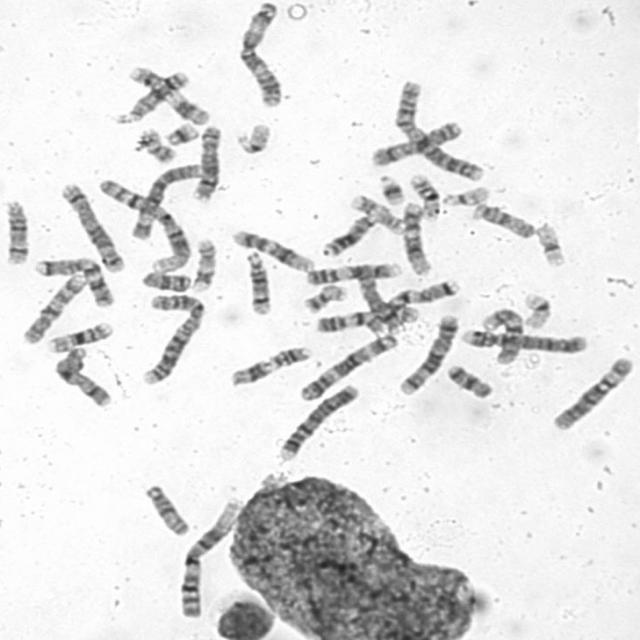A1: (95, 176, 191, 274), (175, 496, 242, 622)
A2: (392, 78, 487, 182), (137, 290, 208, 387)
A3: (295, 330, 400, 402), (234, 0, 284, 108)
B4: (275, 381, 360, 462), (457, 325, 589, 355)
B5: (58, 179, 126, 274), (394, 311, 460, 396)
C10: (19, 270, 88, 346), (478, 305, 525, 365)
C11: (124, 64, 210, 126), (226, 344, 312, 386)
C12: (227, 226, 316, 273), (399, 200, 433, 276)
C6: (547, 354, 636, 433), (126, 160, 204, 241)
C7: (362, 276, 461, 335), (30, 254, 116, 309)
C8: (353, 261, 419, 325), (189, 122, 224, 203)
C9: (311, 302, 422, 335), (302, 260, 404, 286)
D13: (114, 68, 192, 125), (318, 210, 379, 258)
D14: (241, 249, 273, 317), (2, 197, 30, 266)
D15: (142, 481, 192, 537), (469, 200, 535, 240)
E16: (44, 319, 115, 354), (408, 170, 442, 220)
E17: (346, 191, 405, 235), (188, 236, 218, 293)
E18: (444, 361, 494, 400), (138, 268, 194, 294)
F19: (532, 220, 567, 270), (520, 290, 554, 330)
F20: (300, 280, 350, 314), (136, 126, 178, 165)
G21: (375, 171, 406, 206), (162, 120, 200, 147)
G22: (234, 120, 273, 155), (439, 183, 492, 208)
X: (368, 118, 464, 168), (51, 344, 116, 408)
